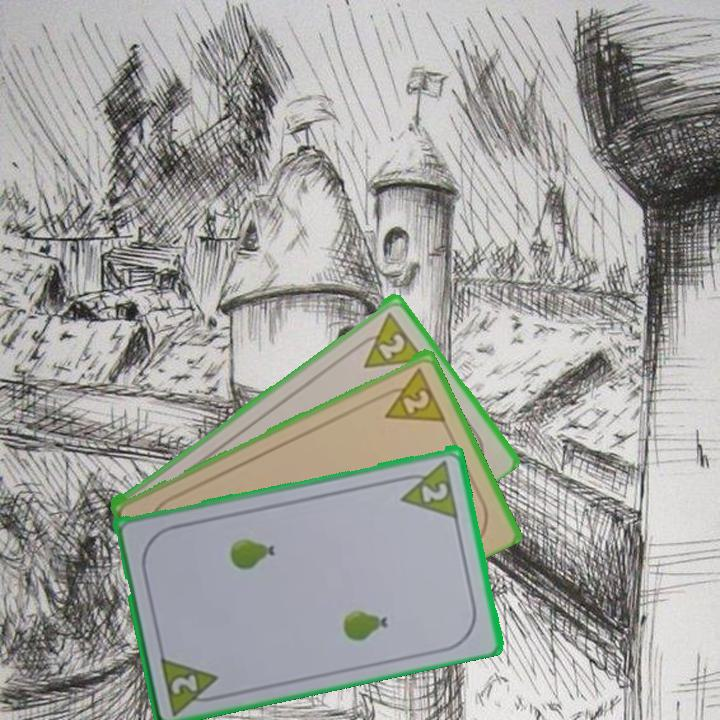2p: (350, 308, 426, 371), (374, 362, 448, 425), (393, 456, 462, 520), (156, 651, 225, 715)
